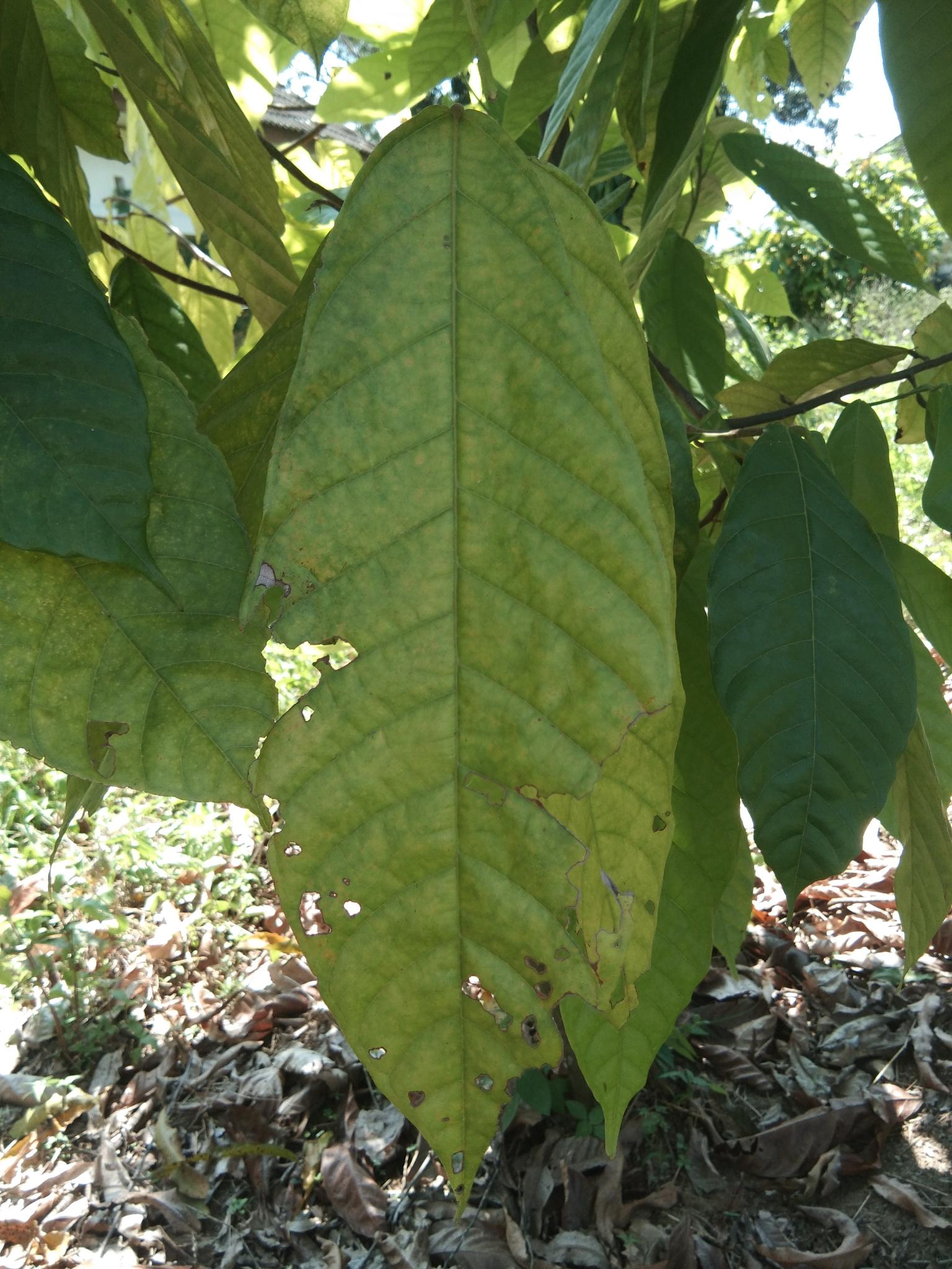Fosforo: (224, 93, 698, 1220)
